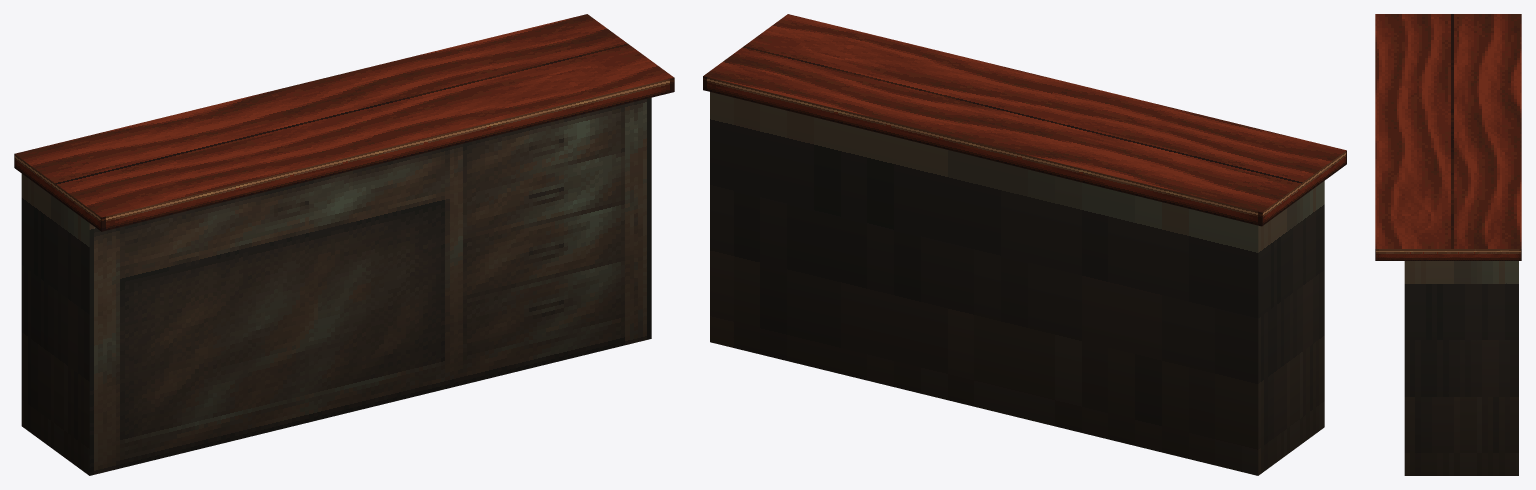
File: prop_table-counter-1.glb
3 renders of one model, left to right at view 1: azimuth 30°, elevation 25°; view 2: azimuth 150°, elevation 25°; view 3: azimuth 270°, elevation 25°, orthographic. The views are drawn at different scales.
Parts seen in each view (by area): view 1: prop_table-counter-1; view 2: prop_table-counter-1; view 3: prop_table-counter-1.
Boxes of the visible parts, left/top/right/bottom form: prop_table-counter-1: left=14, top=14, right=674, bottom=475; prop_table-counter-1: left=703, top=14, right=1346, bottom=475; prop_table-counter-1: left=1375, top=14, right=1521, bottom=475.
Size of the model in its own units: 2.09 by 0.95 by 0.55.
2 materials, 2 textured.
